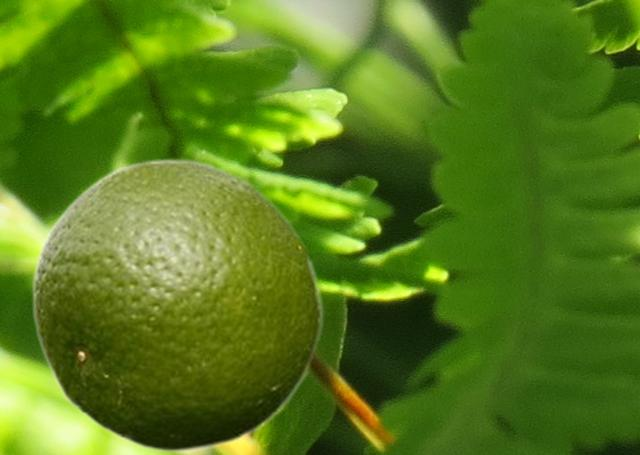calamansi: (31, 155, 323, 453)
